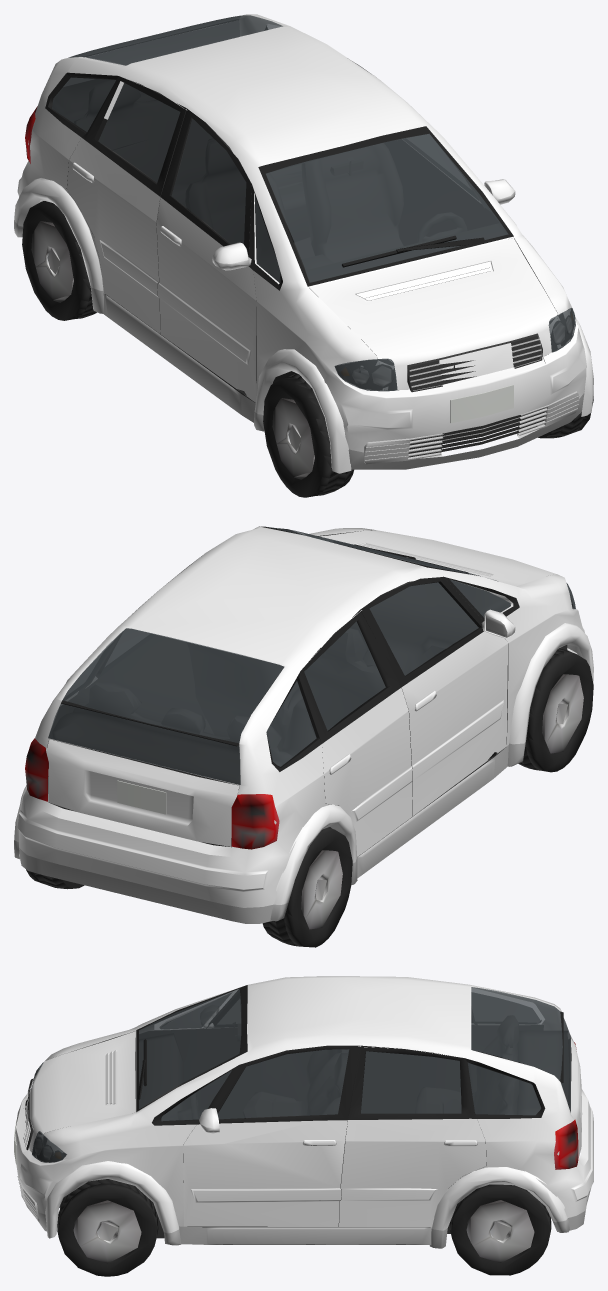
3 renders of one model, top to bottom at view 1: azimuth 30°, elevation 25°; view 2: azimuth 150°, elevation 25°; view 3: azimuth 270°, elevation 25°, orthographic. The views are drawn at different scales.
Parts seen in each view (by area): view 1: body, glass, wheel_FL, wheel_RL; view 2: body, glass, wheel_FL, wheel_RL; view 3: body, glass, wheel_FR, wheel_RR.
Boxes of the visible parts, bbox=[...] form: body: bbox=[14, 14, 593, 473]; glass: bbox=[52, 15, 575, 391]; wheel_FL: bbox=[263, 373, 353, 497]; wheel_RL: bbox=[22, 201, 96, 320]; body: bbox=[14, 526, 593, 923]; glass: bbox=[48, 527, 575, 784]; wheel_FL: bbox=[518, 648, 593, 772]; wheel_RL: bbox=[262, 827, 352, 947]; body: bbox=[14, 976, 593, 1248]; glass: bbox=[32, 987, 570, 1162]; wheel_FR: bbox=[57, 1179, 158, 1276]; wheel_RR: bbox=[450, 1184, 551, 1275].
Bounding box in the file's own units: 1.79 × 1.54 × 3.7.
